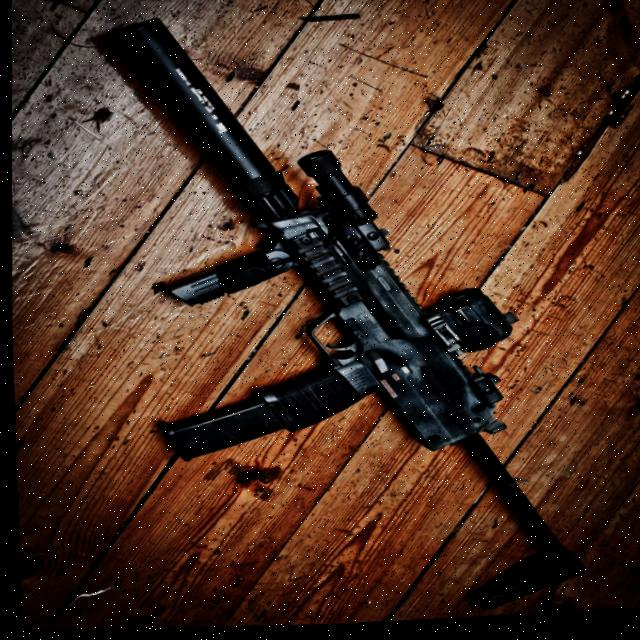firearm: (77, 0, 604, 632)
